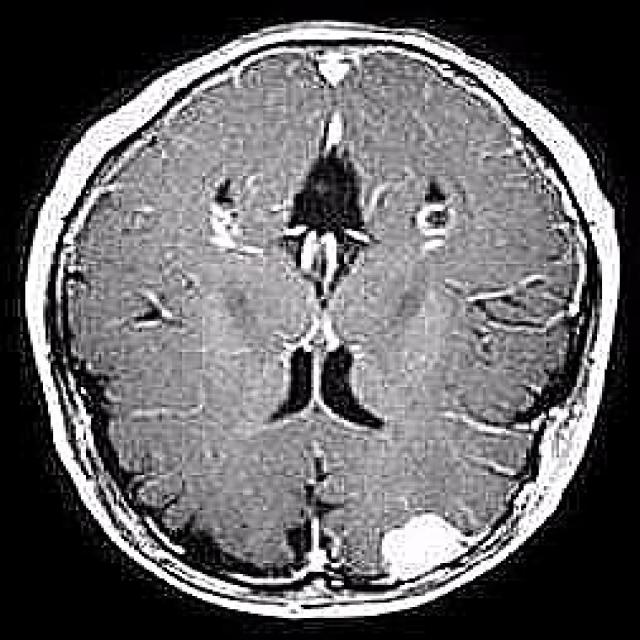Tumor-Cell: (359, 506, 478, 578)
